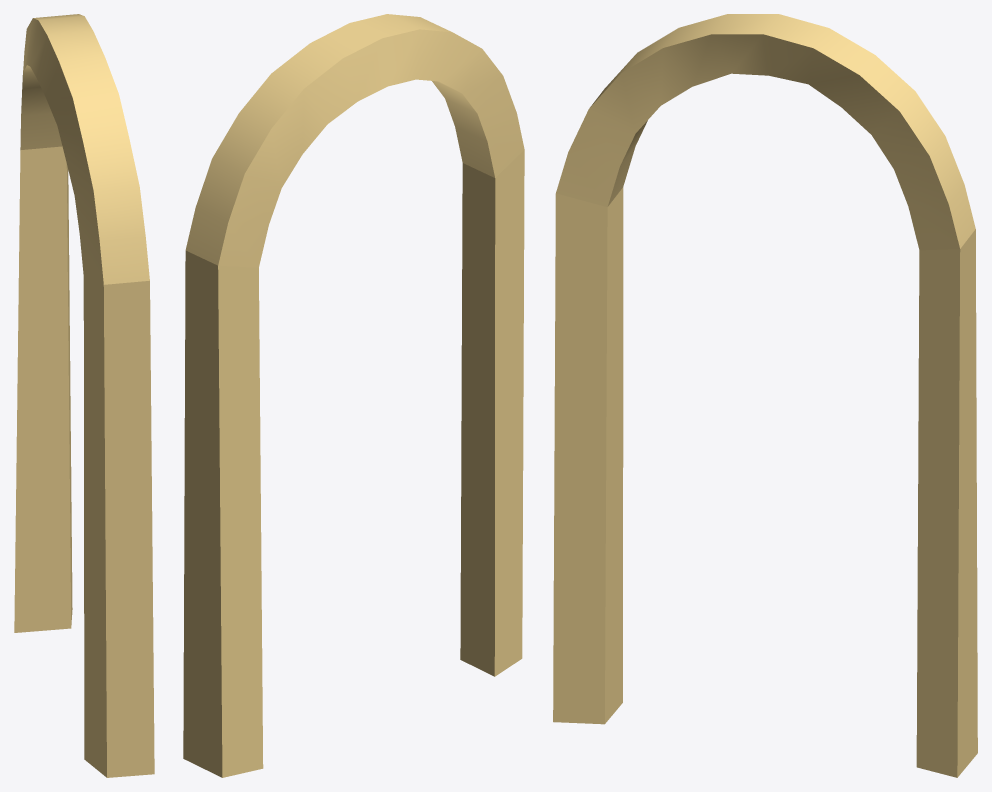
The model's file is doorFrameCurve.fbx.
The picture shows the model from 3 angles, left to right: view 1: azimuth 30°, elevation 25°; view 2: azimuth 150°, elevation 25°; view 3: azimuth 270°, elevation 25°; orthographic projection. The views are drawn at different scales.
Parts seen in each view (by area): view 1: pCube81; view 2: pCube81; view 3: pCube81.
Part boxes in pixels (left/top/right/bottom): pCube81: left=14, top=14, right=154, bottom=777; pCube81: left=183, top=14, right=524, bottom=777; pCube81: left=553, top=14, right=977, bottom=777.
Size of the model in its own units: 73.38 by 311 by 169.
1 material, 1 textured.
